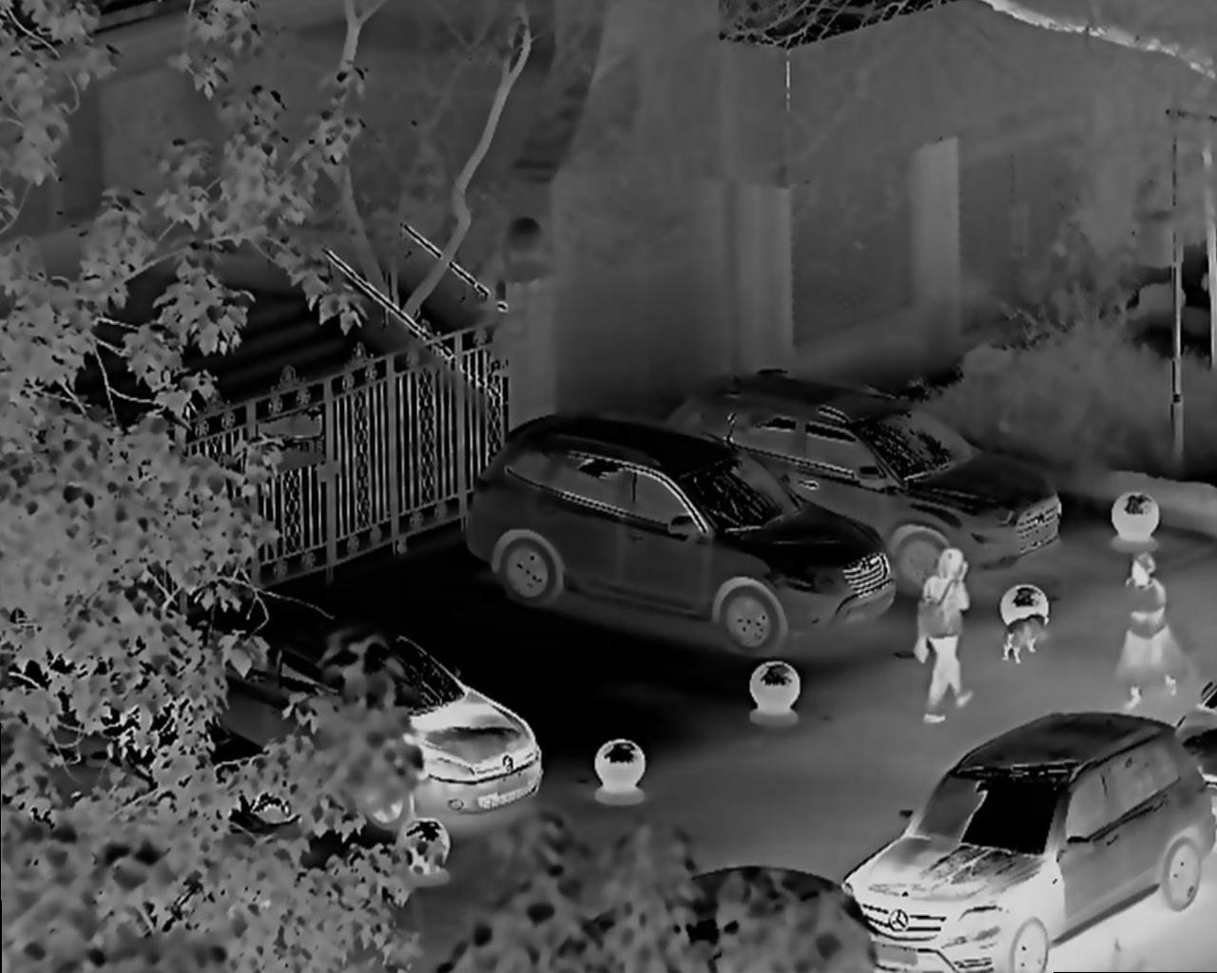person: (908, 545, 981, 723), (1105, 551, 1189, 698)
